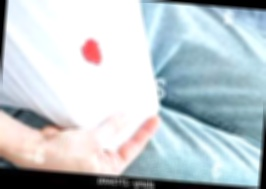blood: (80, 36, 105, 67)
